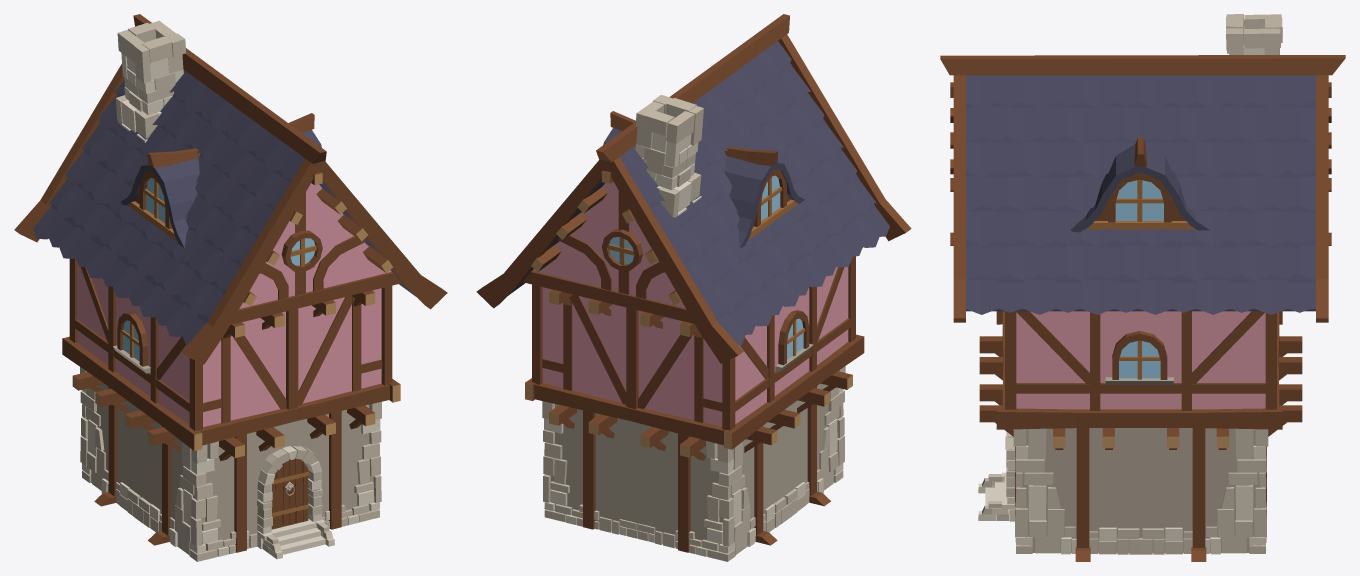
The model's file is cottage-a-pink.glb.
3 renders of one model, left to right at view 1: azimuth 30°, elevation 25°; view 2: azimuth 150°, elevation 25°; view 3: azimuth 270°, elevation 25°, orthographic. The views are drawn at different scales.
Visible parts, largest first — view 1: House_1; view 2: House_1; view 3: House_1.
Part boxes in pixels (x1,y1,x2,y2): House_1: [14, 14, 447, 561]; House_1: [476, 14, 911, 561]; House_1: [940, 14, 1345, 561].
Bounding box in the file's own units: 2.14 × 3.39 × 2.66.
